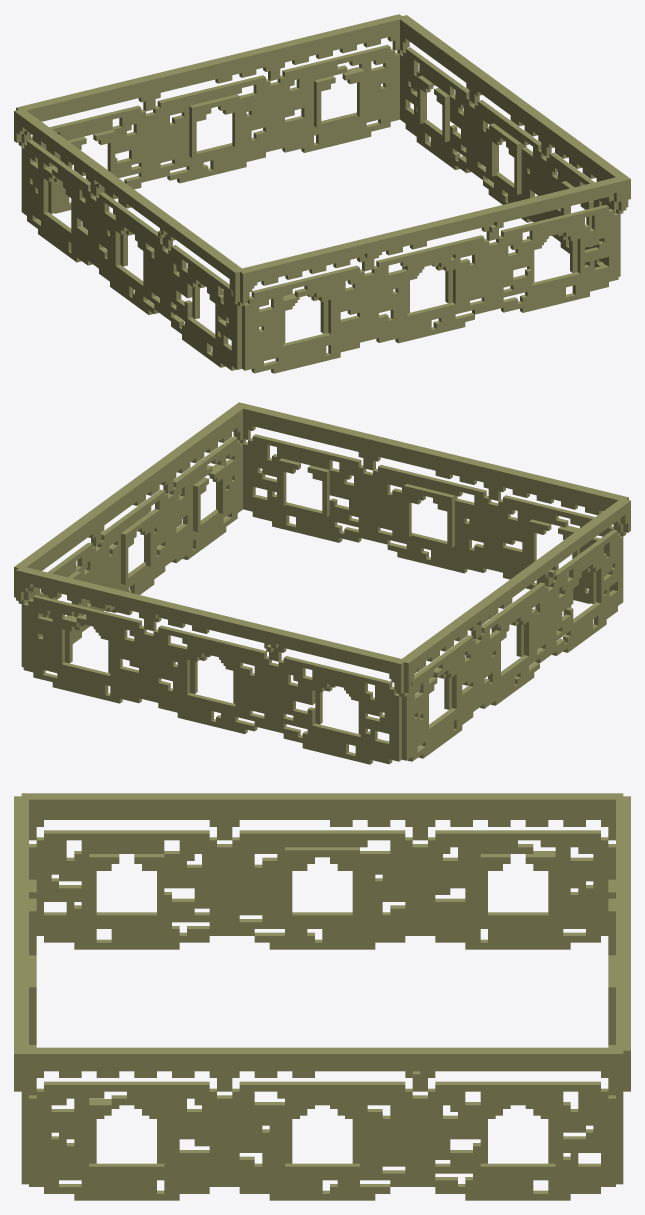
The model's file is archero-3.obj.
3 renders of one model, top to bottom at view 1: azimuth 30°, elevation 25°; view 2: azimuth 150°, elevation 25°; view 3: azimuth 270°, elevation 25°, orthographic. The views are drawn at different scales.
Bounding box in the file's own units: 8.2 × 2.2 × 8.2.
Materials: 1 (1 with a texture image).
